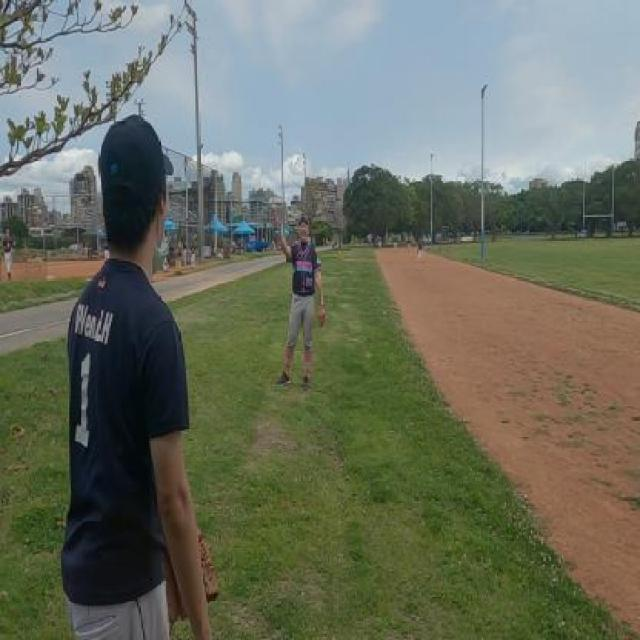baseball: (272, 203, 276, 211)
